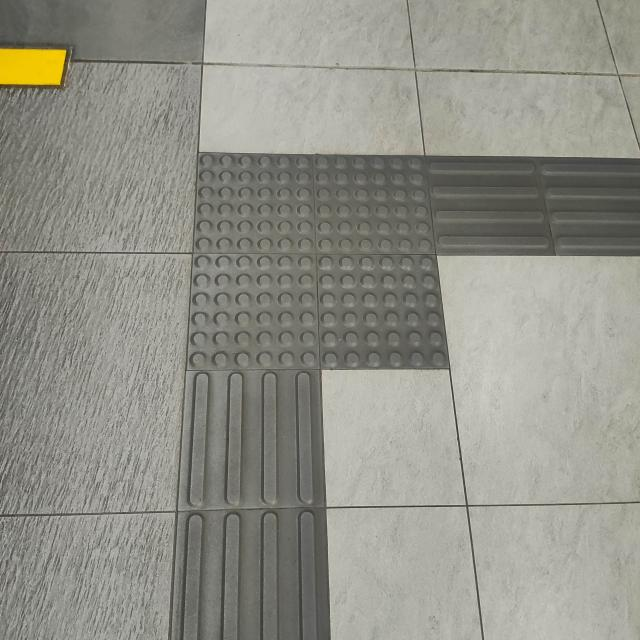kanan: (121, 100, 640, 454)
